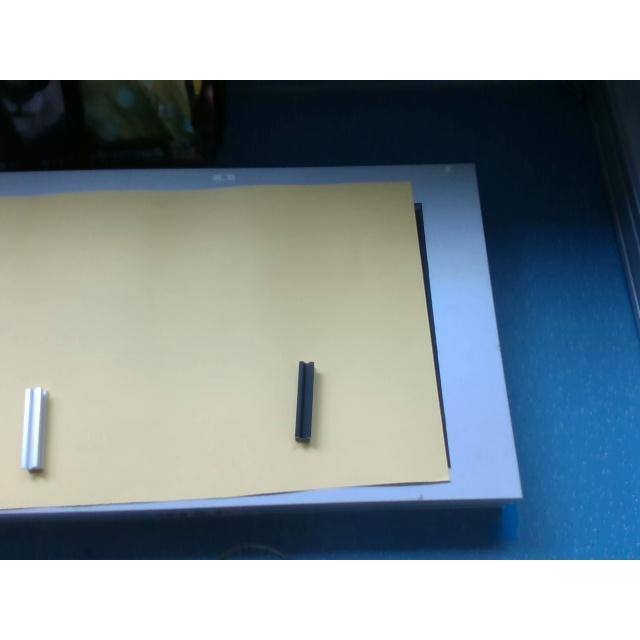F20_20_B: (294, 361, 312, 441)
F20_20_G: (21, 386, 47, 470)
